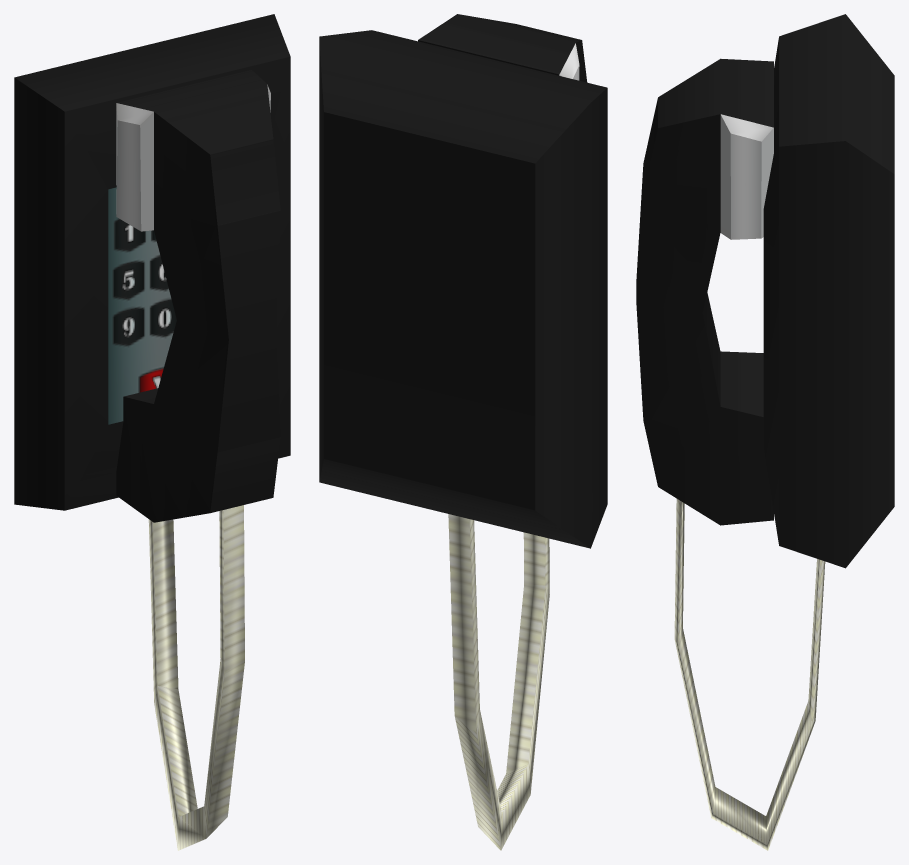
Rendered from Wall_Phone_F.FBX.
The picture shows the model from 3 angles, left to right: view 1: azimuth 30°, elevation 25°; view 2: azimuth 150°, elevation 25°; view 3: azimuth 270°, elevation 25°; orthographic projection. The views are drawn at different scales.
Visible parts, largest first — view 1: Wall_Phone; view 2: Wall_Phone; view 3: Wall_Phone.
Part boxes in pixels (box(x1,y1,x2,y2)): Wall_Phone: box(14, 14, 290, 850); Wall_Phone: box(319, 14, 607, 850); Wall_Phone: box(636, 14, 894, 850).
Size of the model in its own units: 57.35 by 163 by 49.28.
